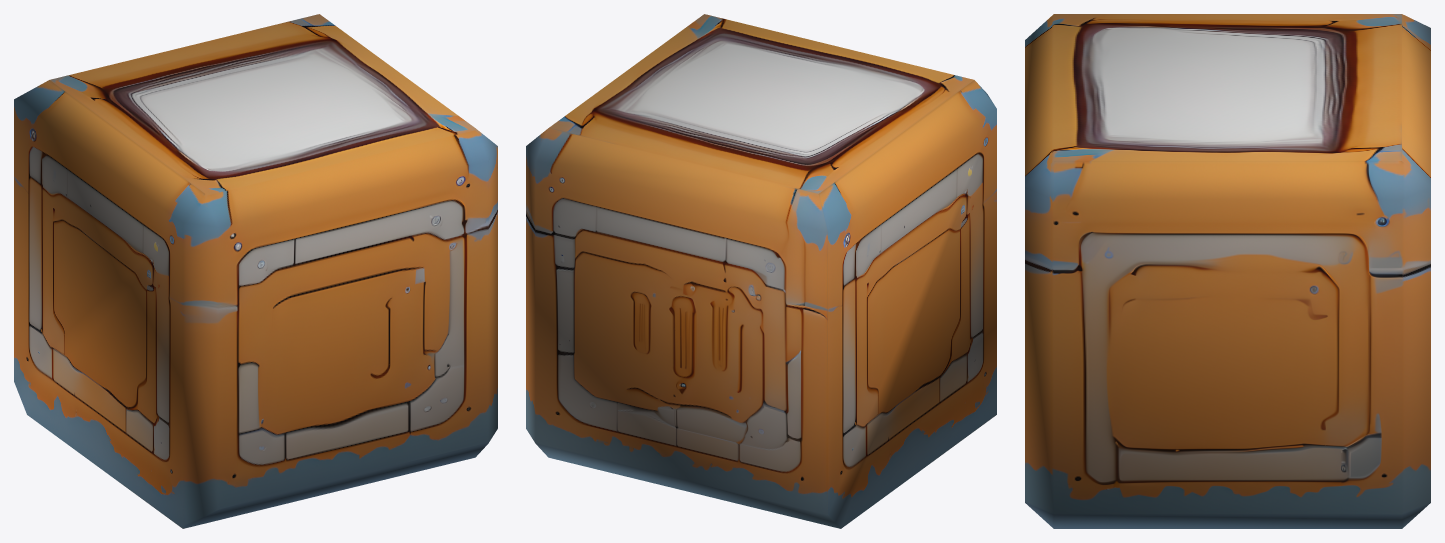
3 views of the same model, side by side, from view 1: azimuth 30°, elevation 25°; view 2: azimuth 150°, elevation 25°; view 3: azimuth 270°, elevation 25° (orthographic). The views are drawn at different scales.
Visible parts, largest first — view 1: texture_pbr_v128; view 2: texture_pbr_v128; view 3: texture_pbr_v128.
Part boxes in pixels (box(x1,y1,x2,y2)): texture_pbr_v128: box(14, 14, 497, 528); texture_pbr_v128: box(526, 14, 996, 528); texture_pbr_v128: box(1025, 14, 1430, 528).
Bounding box in the file's own units: 2 × 2 × 2.
1 material, 1 textured.
